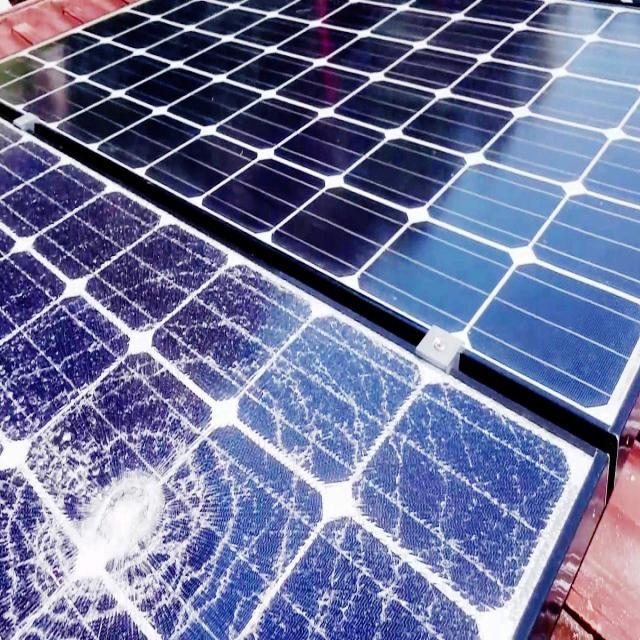faulty: (1, 110, 598, 638)
no faulty: (0, 0, 640, 432)
